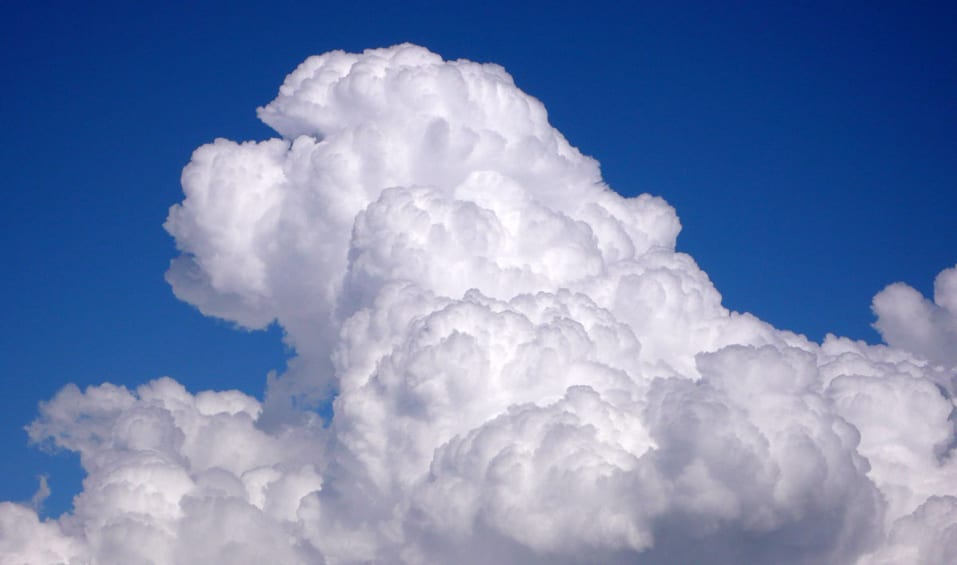Cumulus: (38, 13, 957, 565)
